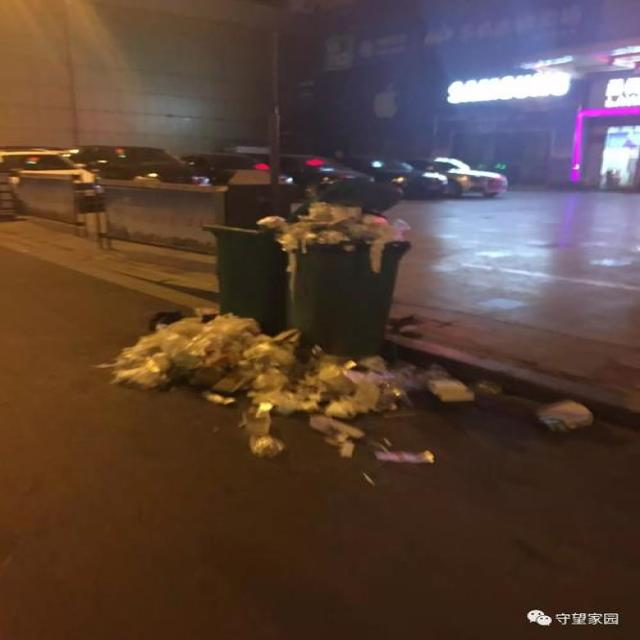garbage: (100, 308, 595, 484)
overflow: (275, 201, 407, 352), (206, 217, 286, 336)
